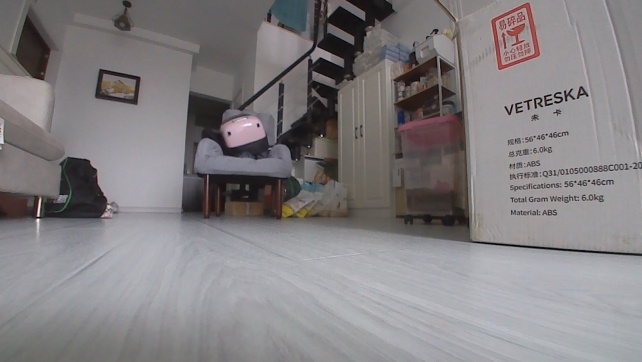sofa: (192, 106, 294, 218), (0, 72, 68, 220)
